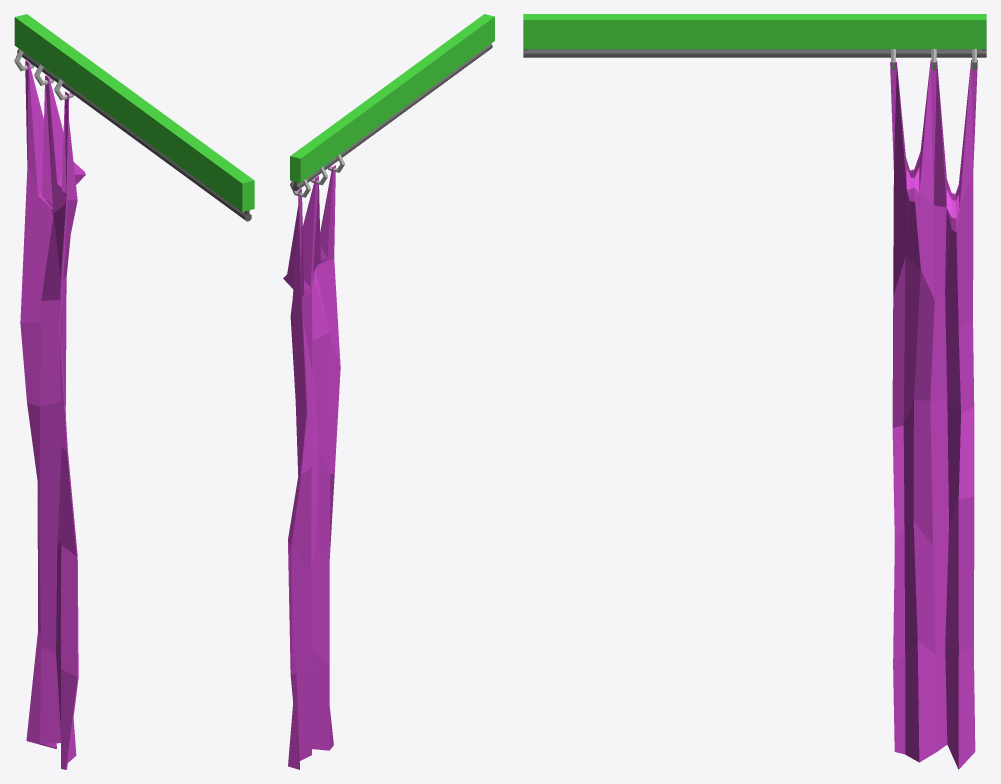
The model's file is Curtain_01_E.fbx.
3 renders of one model, left to right at view 1: azimuth 30°, elevation 25°; view 2: azimuth 150°, elevation 25°; view 3: azimuth 270°, elevation 25°, orthographic. The views are drawn at different scales.
Parts seen in each view (by area): view 1: Curtain_01_E; view 2: Curtain_01_E; view 3: Curtain_01_E.
Boxes of the visible parts, x1,y1,x2,y2 form: Curtain_01_E: [14, 14, 254, 769]; Curtain_01_E: [283, 14, 494, 769]; Curtain_01_E: [523, 14, 986, 769].
Size of the model in its own units: 29.27 by 485 by 274.
